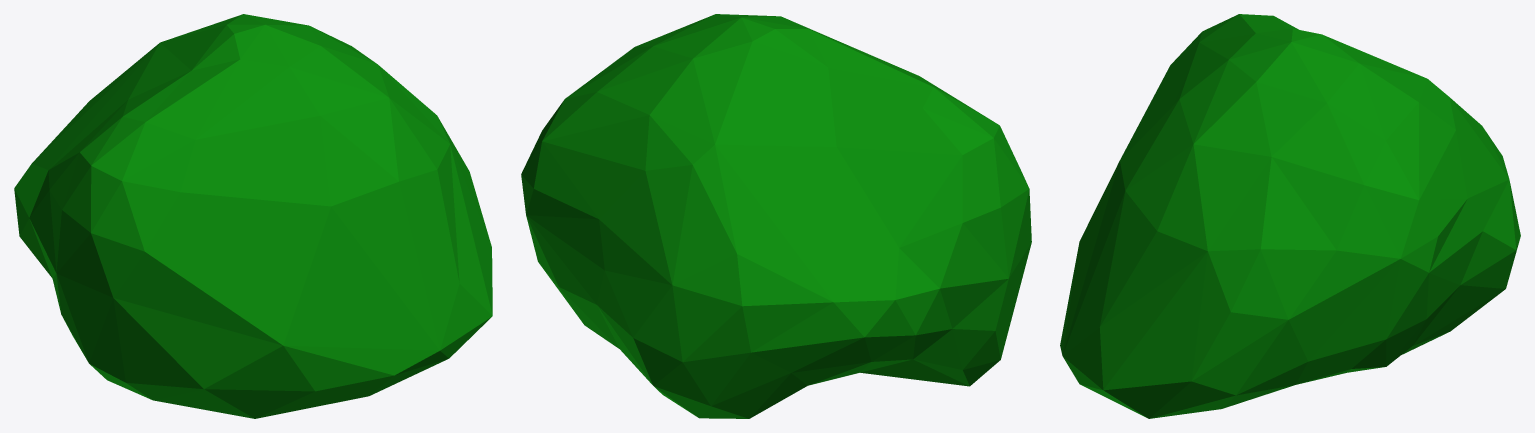
File: lp_tree6_Icosphere_007.obj
3 renders of one model, left to right at view 1: azimuth 30°, elevation 25°; view 2: azimuth 150°, elevation 25°; view 3: azimuth 270°, elevation 25°, orthographic. The views are drawn at different scales.
Visible parts, largest first — view 1: lp_tree6_Icosphere_007; view 2: lp_tree6_Icosphere_007; view 3: lp_tree6_Icosphere_007.
Part boxes in pixels (x1,y1,x2,y2): lp_tree6_Icosphere_007: (14, 14, 492, 418); lp_tree6_Icosphere_007: (521, 14, 1031, 418); lp_tree6_Icosphere_007: (1060, 14, 1520, 418).
Size of the model in its own units: 8.13 by 6.15 by 7.61.
